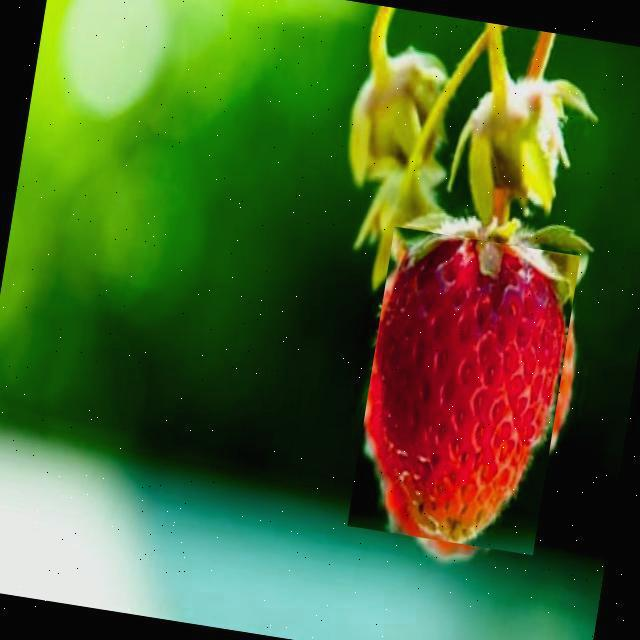ripe: (347, 227, 580, 556)
